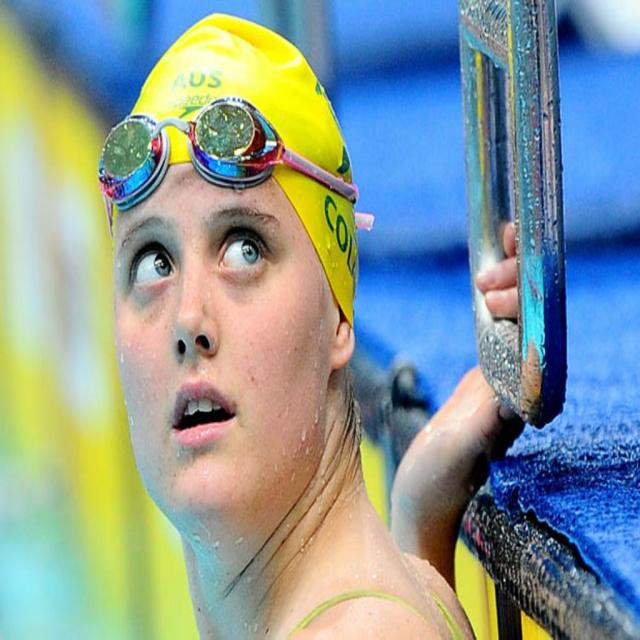Face: (106, 160, 340, 535)
